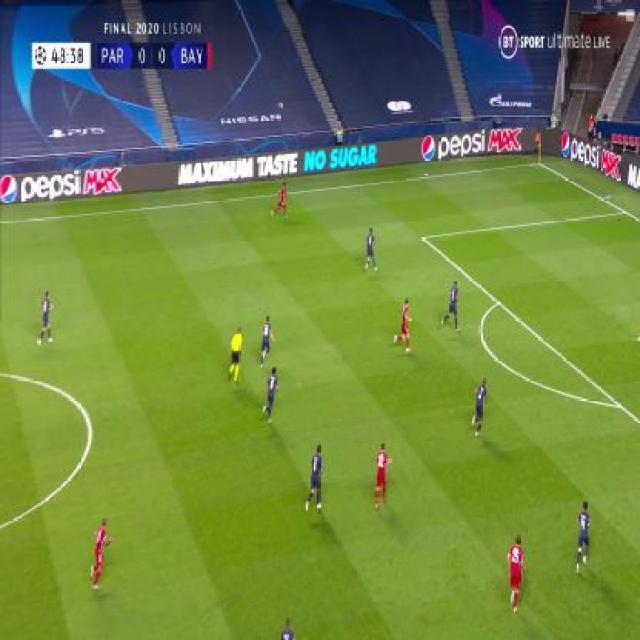ball: (279, 101, 284, 110)
player: (90, 517, 113, 590), (506, 535, 526, 612), (574, 499, 593, 576), (305, 444, 324, 515), (373, 442, 392, 511), (440, 279, 462, 335), (471, 377, 490, 437), (261, 367, 280, 426), (393, 298, 413, 354), (36, 291, 55, 348), (228, 328, 244, 385), (258, 315, 274, 368), (270, 183, 289, 220), (364, 227, 378, 273), (279, 617, 296, 640), (534, 129, 542, 166)
